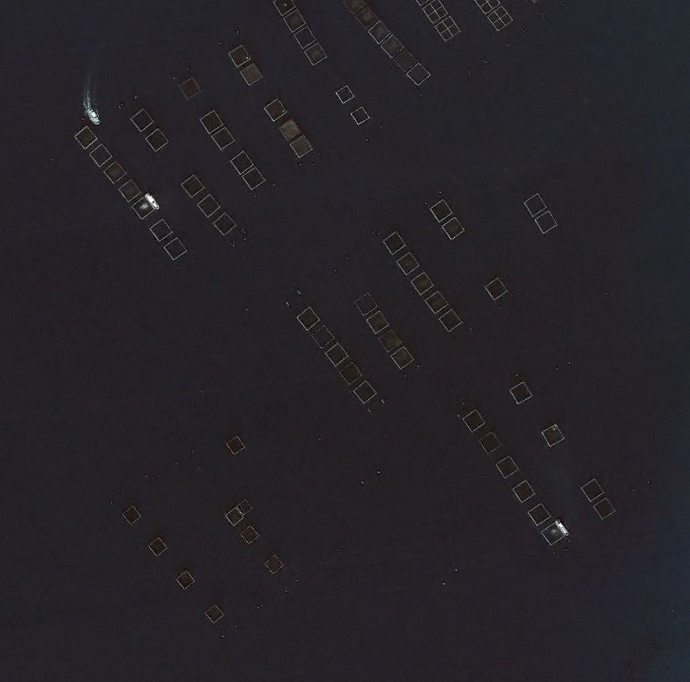ship: (84, 105, 103, 126), (553, 516, 568, 535), (146, 192, 161, 210)
square: (432, 8, 467, 44), (259, 93, 292, 128), (293, 299, 325, 334), (577, 471, 608, 507), (176, 166, 207, 202), (535, 416, 568, 449), (308, 321, 340, 355), (365, 14, 396, 49), (507, 467, 535, 505), (192, 187, 223, 221), (457, 400, 487, 435), (485, 2, 518, 33), (490, 446, 520, 480), (391, 246, 423, 277), (426, 194, 458, 225), (525, 490, 551, 528), (474, 421, 503, 455), (144, 208, 173, 242), (225, 142, 256, 173), (352, 289, 382, 321), (520, 188, 550, 220), (287, 130, 316, 163), (72, 121, 102, 152), (158, 229, 187, 261), (237, 62, 270, 90), (113, 169, 140, 203), (509, 373, 535, 408), (377, 326, 407, 356), (240, 162, 270, 192), (85, 139, 114, 170), (227, 40, 256, 71), (279, 5, 310, 34), (273, 116, 306, 143), (195, 105, 224, 135), (301, 40, 331, 69), (142, 120, 168, 153), (208, 123, 237, 152), (381, 227, 411, 255), (534, 205, 562, 235), (321, 339, 349, 368), (364, 310, 393, 338), (424, 288, 453, 316), (437, 304, 465, 333), (289, 21, 318, 49), (330, 78, 358, 107), (393, 49, 421, 78), (130, 191, 157, 221), (126, 106, 156, 133), (483, 274, 511, 302), (346, 101, 373, 130), (408, 269, 434, 299), (440, 213, 467, 241), (211, 209, 237, 238), (174, 564, 199, 594), (338, 357, 363, 387), (376, 35, 404, 61), (352, 377, 377, 406), (541, 516, 561, 552), (592, 494, 618, 521), (406, 65, 434, 90), (227, 429, 251, 458), (101, 156, 125, 185), (118, 502, 144, 528), (391, 342, 416, 368), (218, 504, 245, 528), (145, 533, 168, 561), (263, 553, 286, 577), (239, 522, 261, 545), (205, 603, 226, 627), (179, 78, 202, 99), (231, 495, 252, 516)
